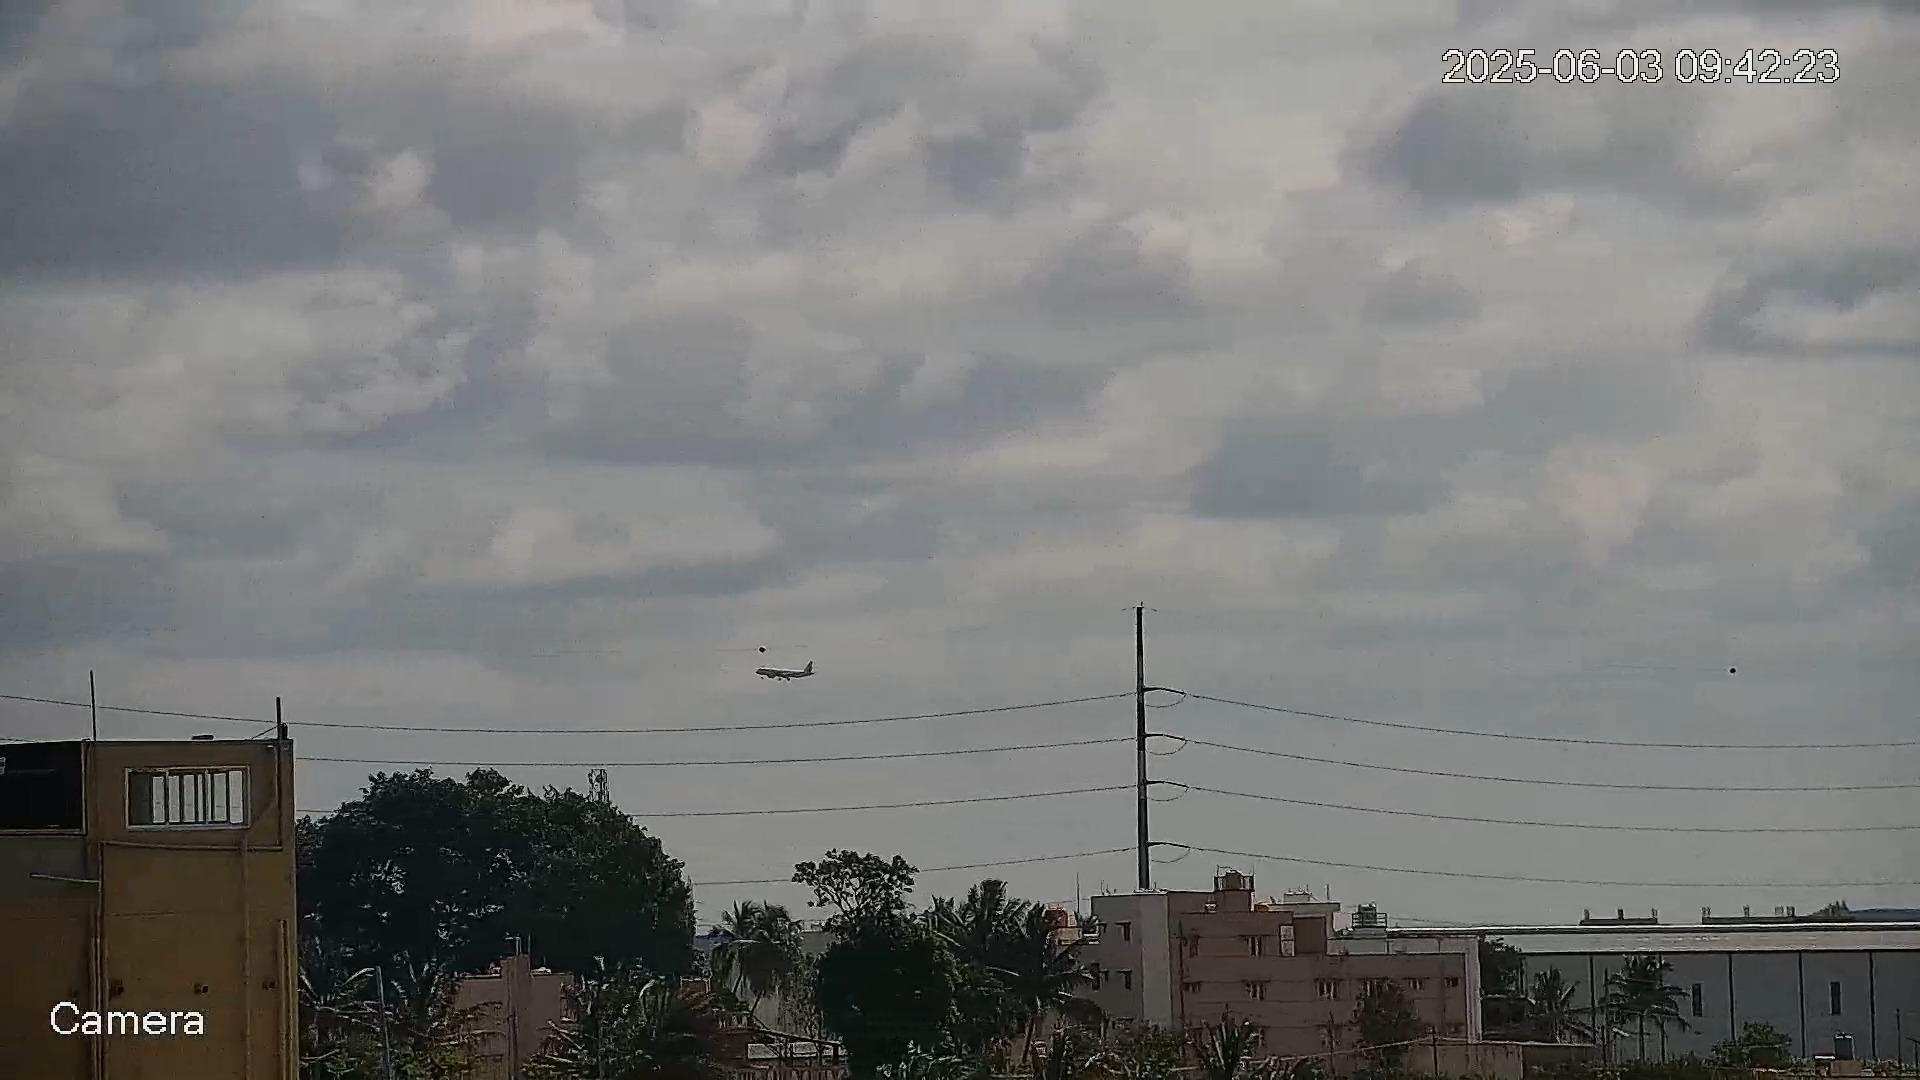Aircraft: (754, 661, 816, 682)
